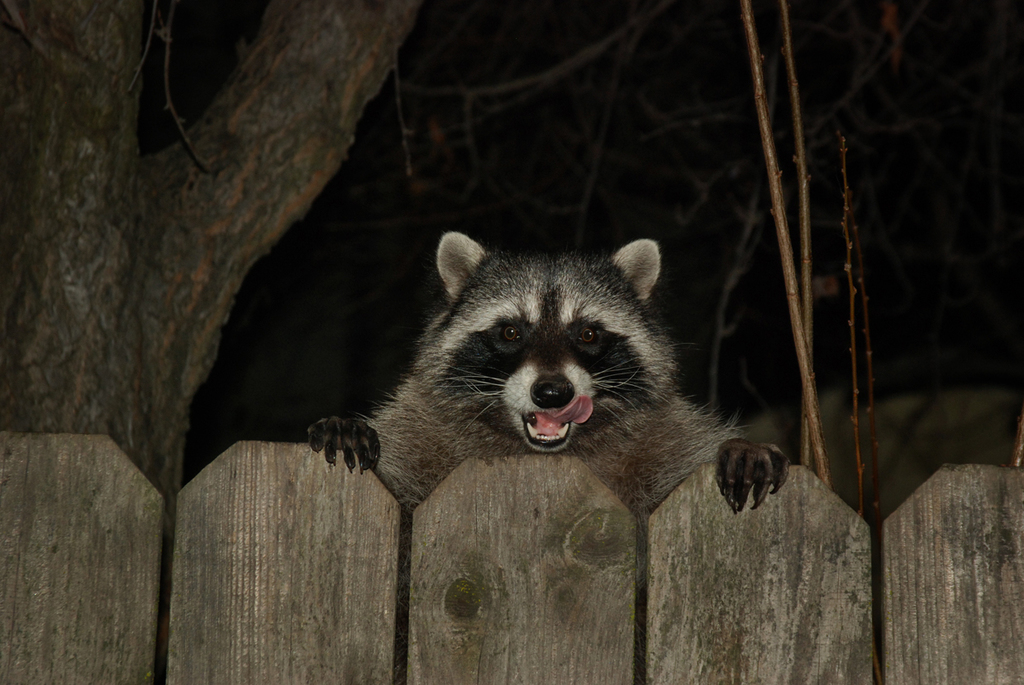raccoon: (311, 227, 785, 512)
